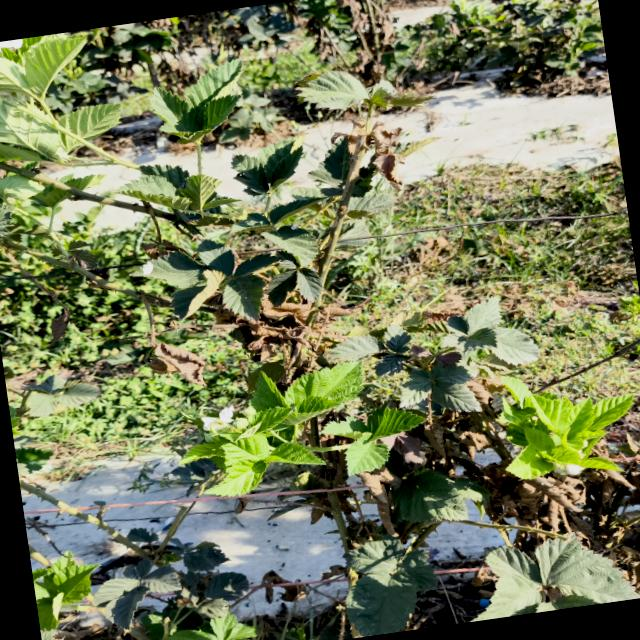boton: (232, 417, 249, 430), (243, 406, 256, 421)
flor: (201, 407, 234, 430)
